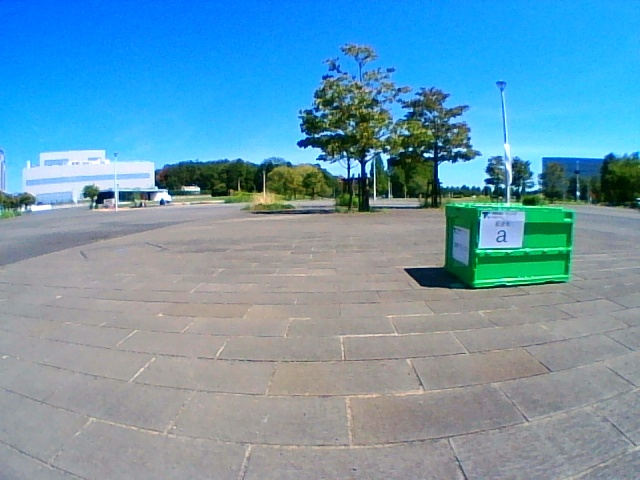green_box: (444, 203, 573, 288)
tag_a: (482, 214, 521, 246)
